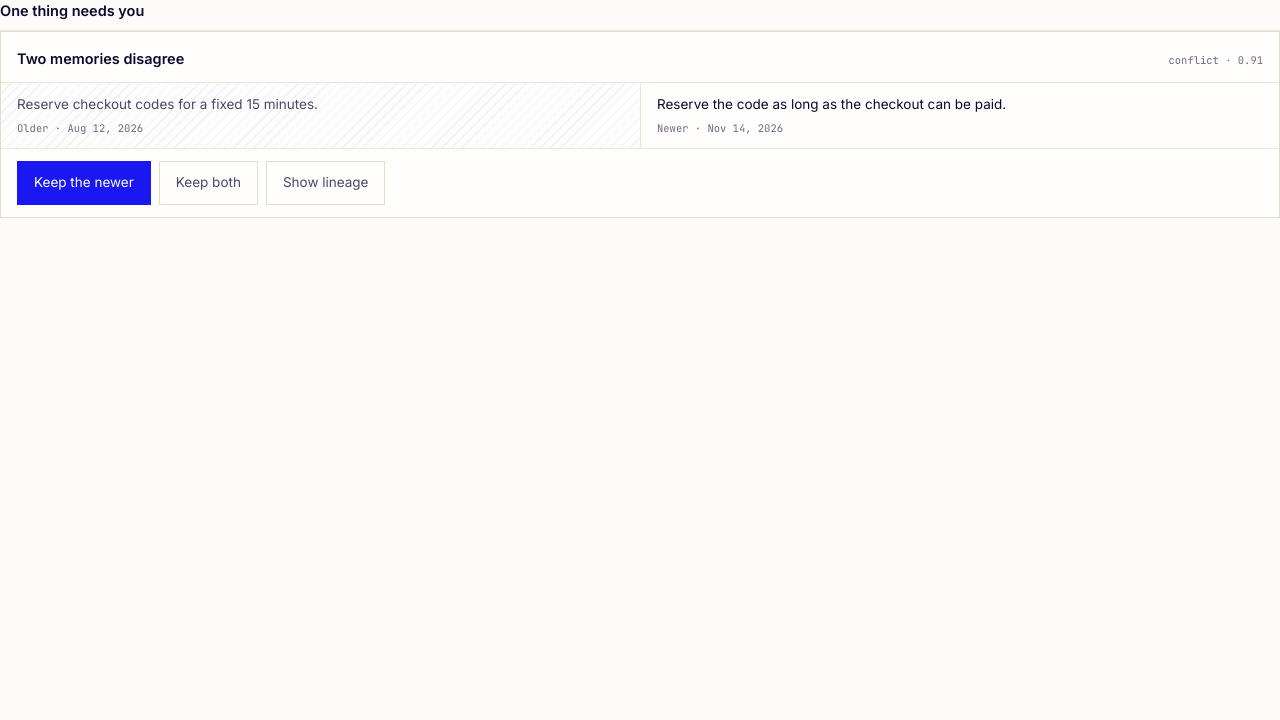
it: reports a failed resolution and does not refresh
Click the button "Keep both": point(208, 182) [159,160,258,204]
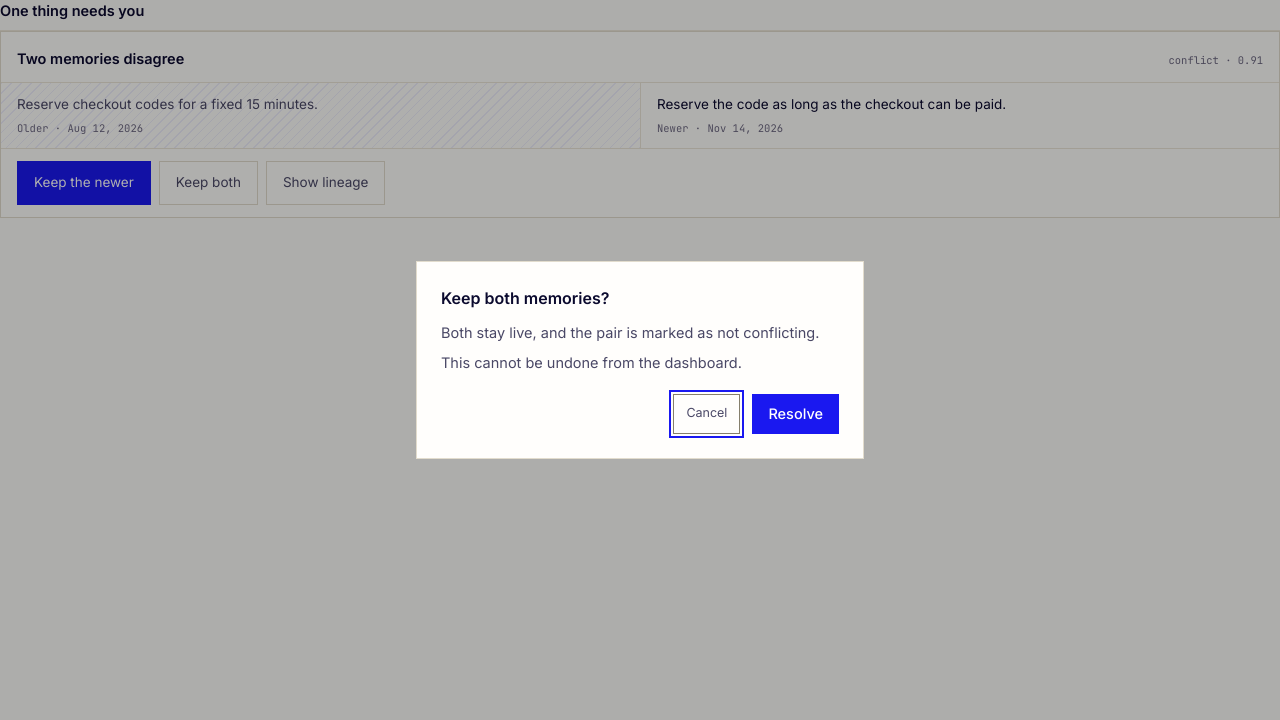
Click the button "Resolve": point(796, 414) [752,394,839,434]
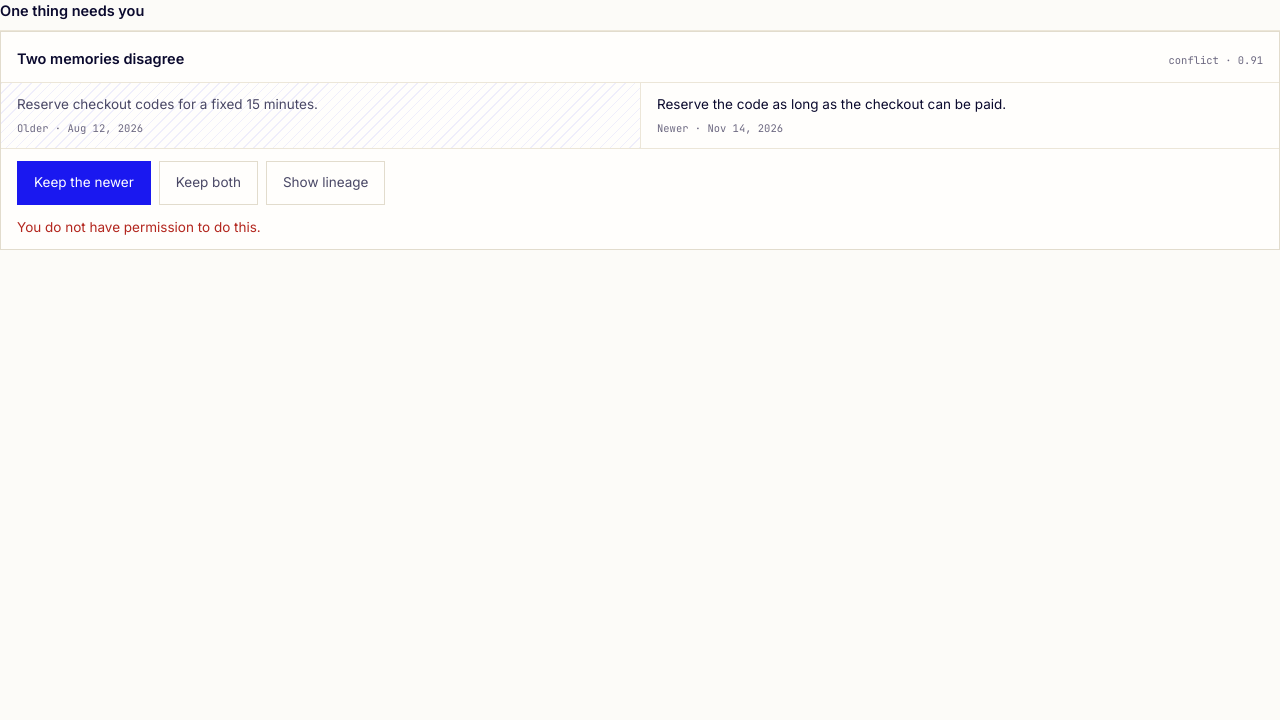
Now the message "You do not have permission to do this." is shown, box [17,218,261,234]
